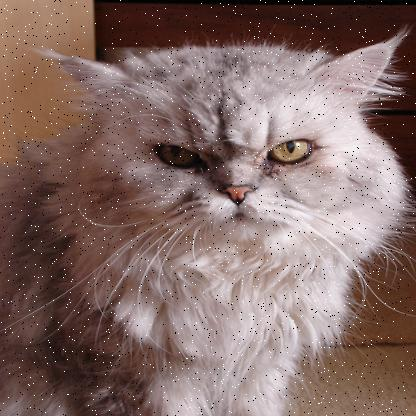cat: (10, 21, 415, 415)
